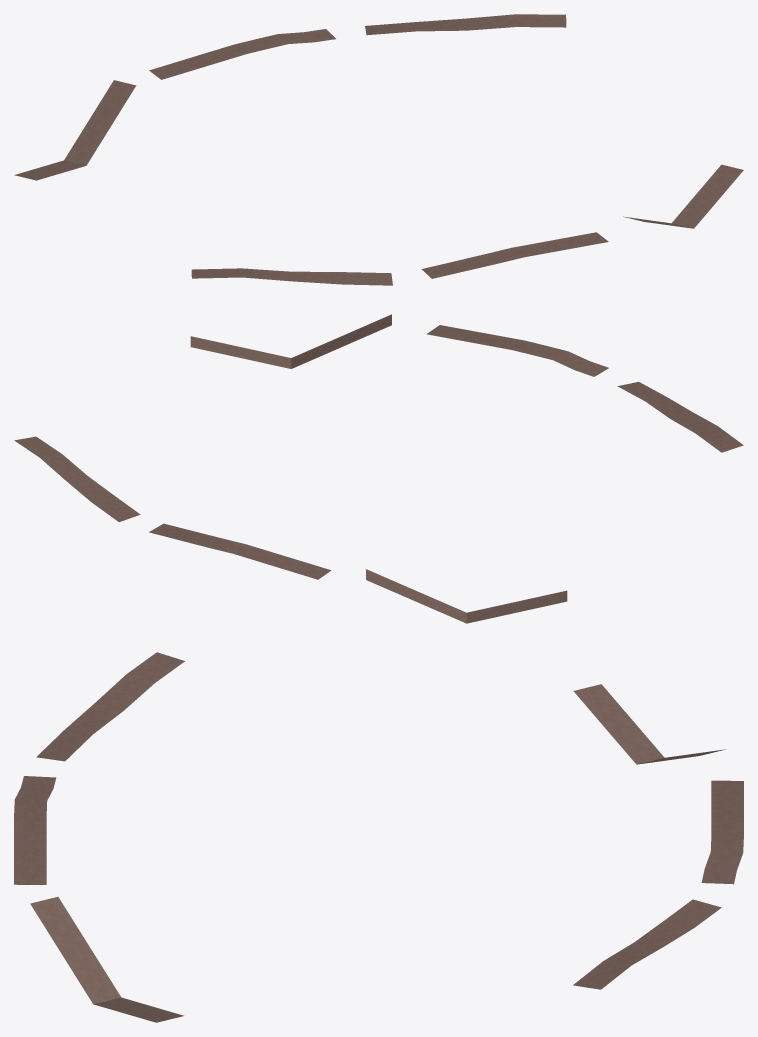
The model's file is SM_LDFest_25_Wire.fbx.
The picture shows the model from 3 angles, top to bottom: view 1: azimuth 30°, elevation 25°; view 2: azimuth 150°, elevation 25°; view 3: azimuth 270°, elevation 25°; orthographic projection. The views are drawn at different scales.
Parts seen in each view (by area): view 1: SM_LDFest_25_Wire; view 2: SM_LDFest_25_Wire; view 3: SM_LDFest_25_Wire.
Part boxes in pixels (bbox=[...]): SM_LDFest_25_Wire: bbox=[14, 14, 743, 285]; SM_LDFest_25_Wire: bbox=[14, 314, 743, 623]; SM_LDFest_25_Wire: bbox=[14, 652, 743, 1022].
Bounding box in the file's own units: 6797 × 572 × 6191.
